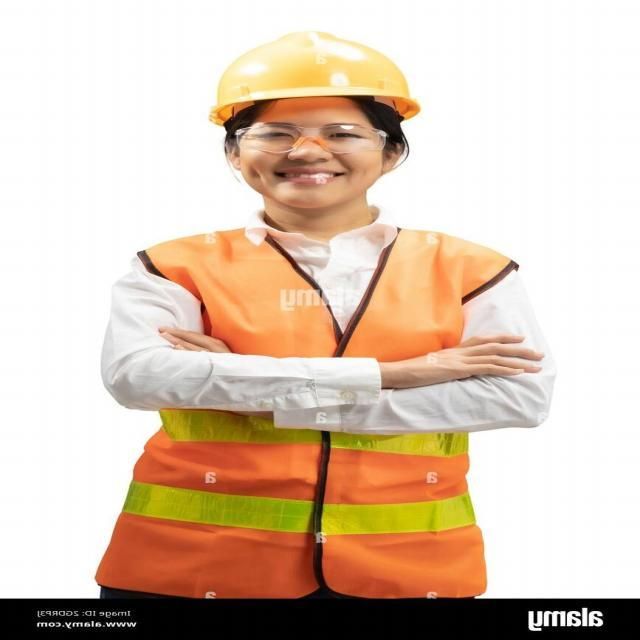reflective_jacket: (91, 222, 507, 603)
safety_helmet: (203, 27, 422, 123)
